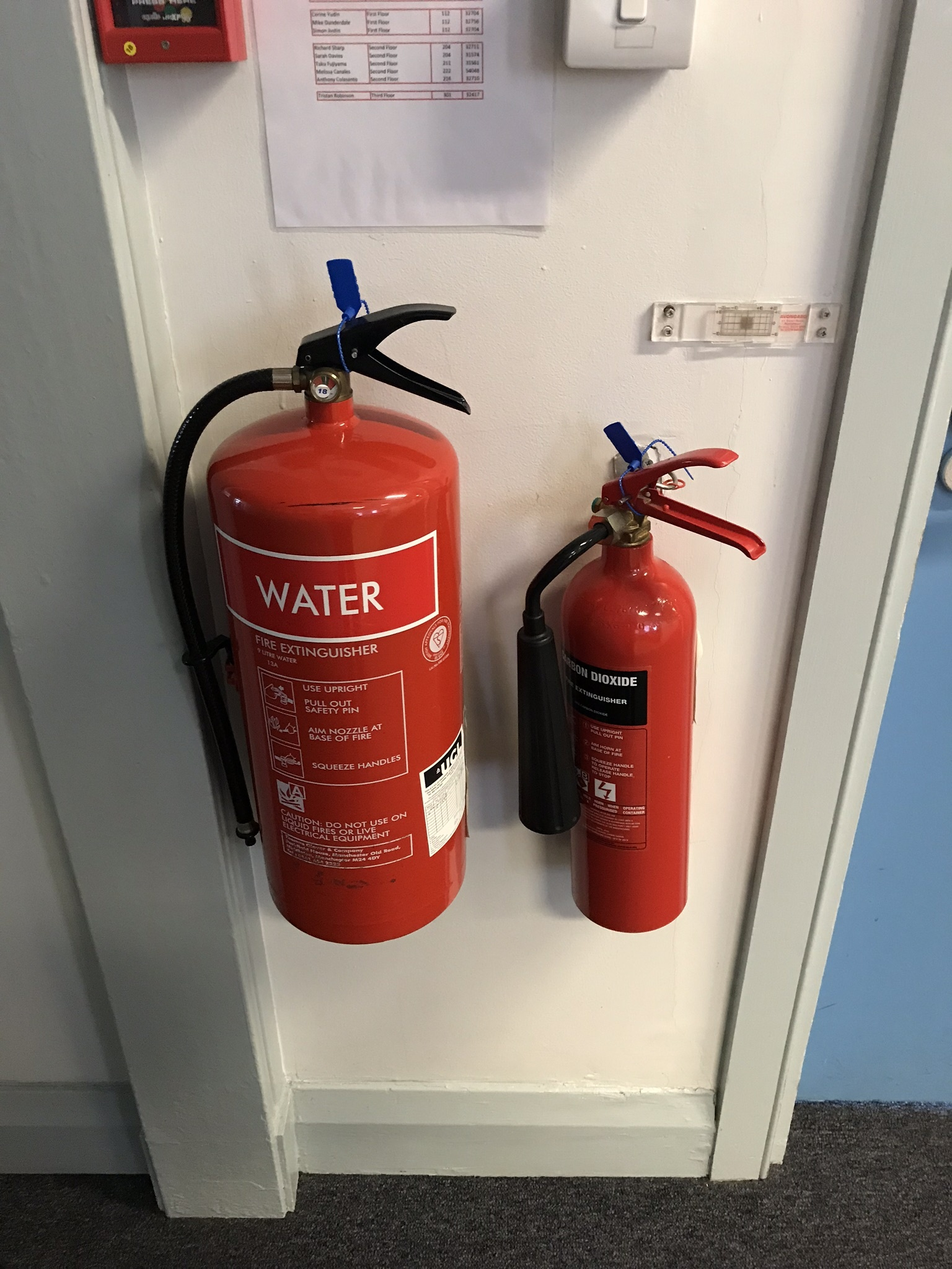fire_extinguisher: (162, 258, 471, 946), (516, 421, 767, 934)
